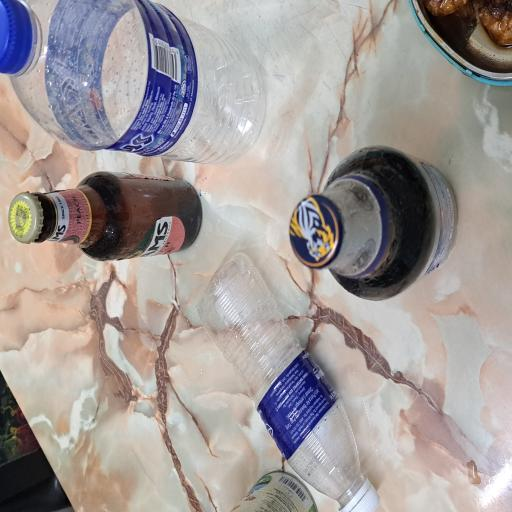can: (0, 310, 32, 424)
glass bottle: (190, 9, 254, 270), (158, 384, 276, 512)
plastic bottle: (0, 264, 201, 487), (260, 0, 384, 355)
plastic bottle cap: (0, 456, 24, 505)
